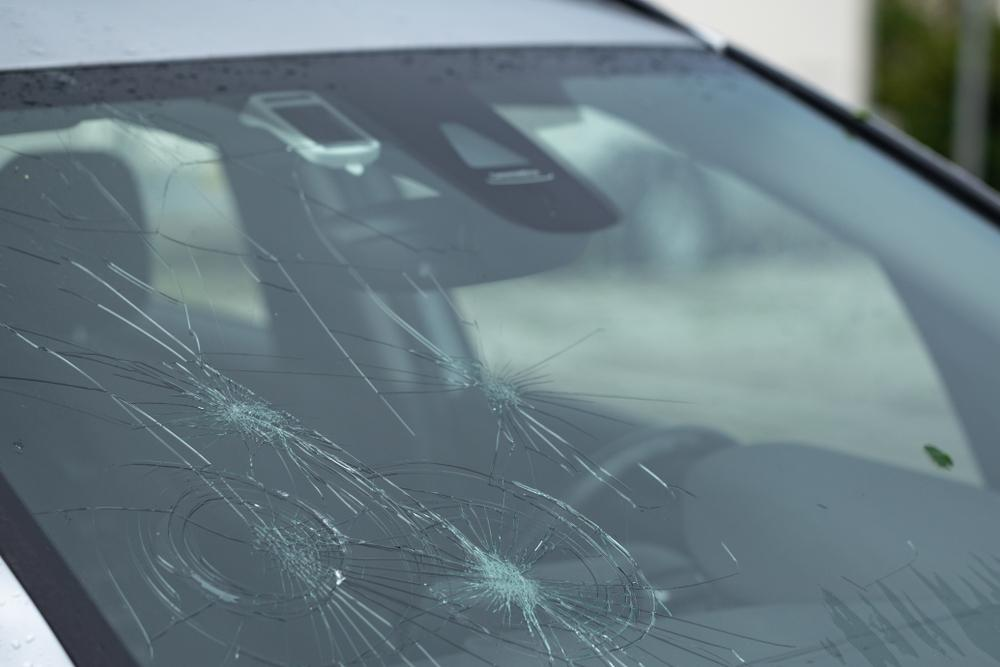glass shatter: (0, 47, 1000, 667)
